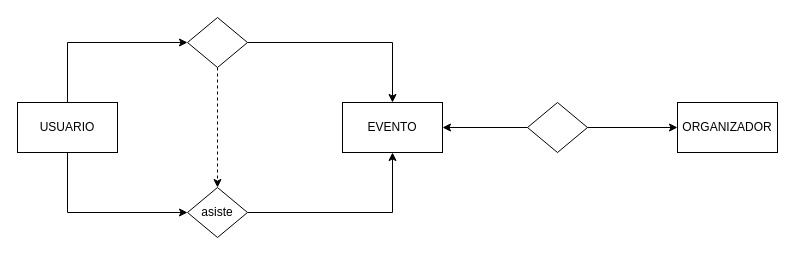
Image size: 795x255. Some labels were removed from this diagram. Here are the shapes that lost their labels. From the top down, the centre of each, then its label:
At pixel 217 42: "inscribe".
At pixel 557 127: "organiza".
